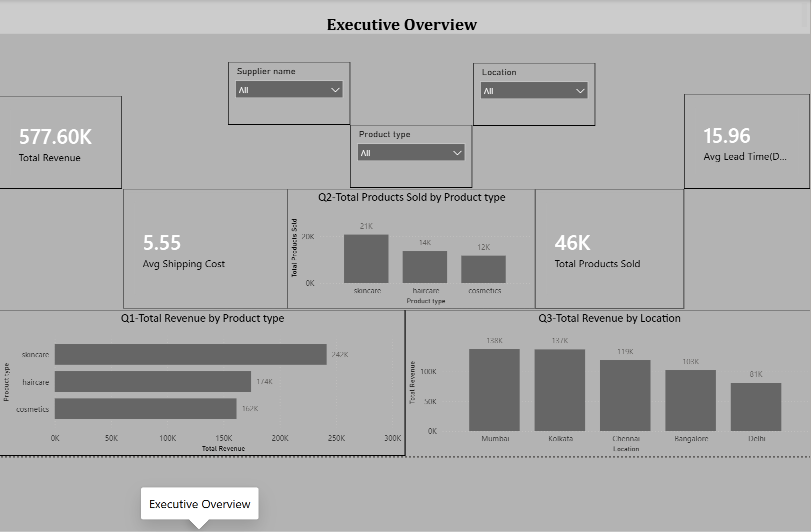

The dashboard page shown, as its layout file describes it:
{"tool":"powerbi","page":{"name":" Executive Overview","canvas":[1280,720],"ordinal":0},"visuals":[{"type":"cardVisual","fields":{"Data":["project_supply_chain_data supply_chain_data.Total Revenue"]},"box":[0,151.5,194.1,146.8],"z":0},{"type":"cardVisual","fields":{"Data":["project_supply_chain_data supply_chain_data.Total Products Sold"]},"box":[845.2,298.7,235.7,189],"z":1000},{"type":"cardVisual","fields":{"Data":["project_supply_chain_data supply_chain_data.Avg Shipping Cost"]},"box":[195,298.7,260.1,189],"z":2000},{"type":"cardVisual","fields":{"Data":["project_supply_chain_data supply_chain_data.Avg Lead Time(Days)"]},"box":[1081.1,148.4,198.9,149.9],"z":3000},{"type":"clusteredBarChart","title":"Q1-Total Revenue by Product type","fields":{"Y":["project_supply_chain_data supply_chain_data.Total Revenue"],"Category":["project_supply_chain_data supply_chain_data.Product type"]},"box":[0,489.3,640.8,230.4],"z":4000},{"type":"clusteredColumnChart","title":"Q2-Total Products Sold by Product type","fields":{"Category":["project_supply_chain_data supply_chain_data.Product type"],"Y":["project_supply_chain_data supply_chain_data.Total Products Sold"]},"box":[455.1,298.7,392.1,189],"z":5000},{"type":"columnChart","title":"Q3-Total Revenue by Location","fields":{"Category":["project_supply_chain_data supply_chain_data.Location"],"Y":["project_supply_chain_data supply_chain_data.Total Revenue"]},"box":[640,489.7,644.1,231.6],"z":6000},{"type":"textbox","box":[0,0,1280,53.7],"z":7000},{"type":"slicer","fields":{"Values":["project_supply_chain_data supply_chain_data.Supplier name"]},"box":[361.7,97.5,193,99.6],"z":8000},{"type":"slicer","fields":{"Values":["project_supply_chain_data supply_chain_data.Product type"]},"box":[554.7,197.1,193,99.6],"z":9000},{"type":"slicer","fields":{"Values":["project_supply_chain_data supply_chain_data.Location"]},"box":[747.7,99.6,193,99.6],"z":10000}]}

Visuals, with their boxes on the page's 1280x720 design canvas (x1, y1, x2, y2). These are canvas units, not pixel positions in the 812x532 screenshot, which may show the page scaled, cropped or inside an application window:
cardVisual - project_supply_chain_data supply_chain_data.Total Revenue: pyautogui.locateOnScreen(0, 152, 194, 298)
cardVisual - project_supply_chain_data supply_chain_data.Total Products Sold: pyautogui.locateOnScreen(845, 299, 1081, 488)
cardVisual - project_supply_chain_data supply_chain_data.Avg Shipping Cost: pyautogui.locateOnScreen(195, 299, 455, 488)
cardVisual - project_supply_chain_data supply_chain_data.Avg Lead Time(Days): pyautogui.locateOnScreen(1081, 148, 1280, 298)
"Q1-Total Revenue by Product type" clusteredBarChart: pyautogui.locateOnScreen(0, 489, 641, 720)
"Q2-Total Products Sold by Product type" clusteredColumnChart: pyautogui.locateOnScreen(455, 299, 847, 488)
"Q3-Total Revenue by Location" columnChart: pyautogui.locateOnScreen(640, 490, 1284, 721)
textbox: pyautogui.locateOnScreen(0, 0, 1280, 54)
slicer - project_supply_chain_data supply_chain_data.Supplier name: pyautogui.locateOnScreen(362, 98, 555, 197)
slicer - project_supply_chain_data supply_chain_data.Product type: pyautogui.locateOnScreen(555, 197, 748, 297)
slicer - project_supply_chain_data supply_chain_data.Location: pyautogui.locateOnScreen(748, 100, 941, 199)
